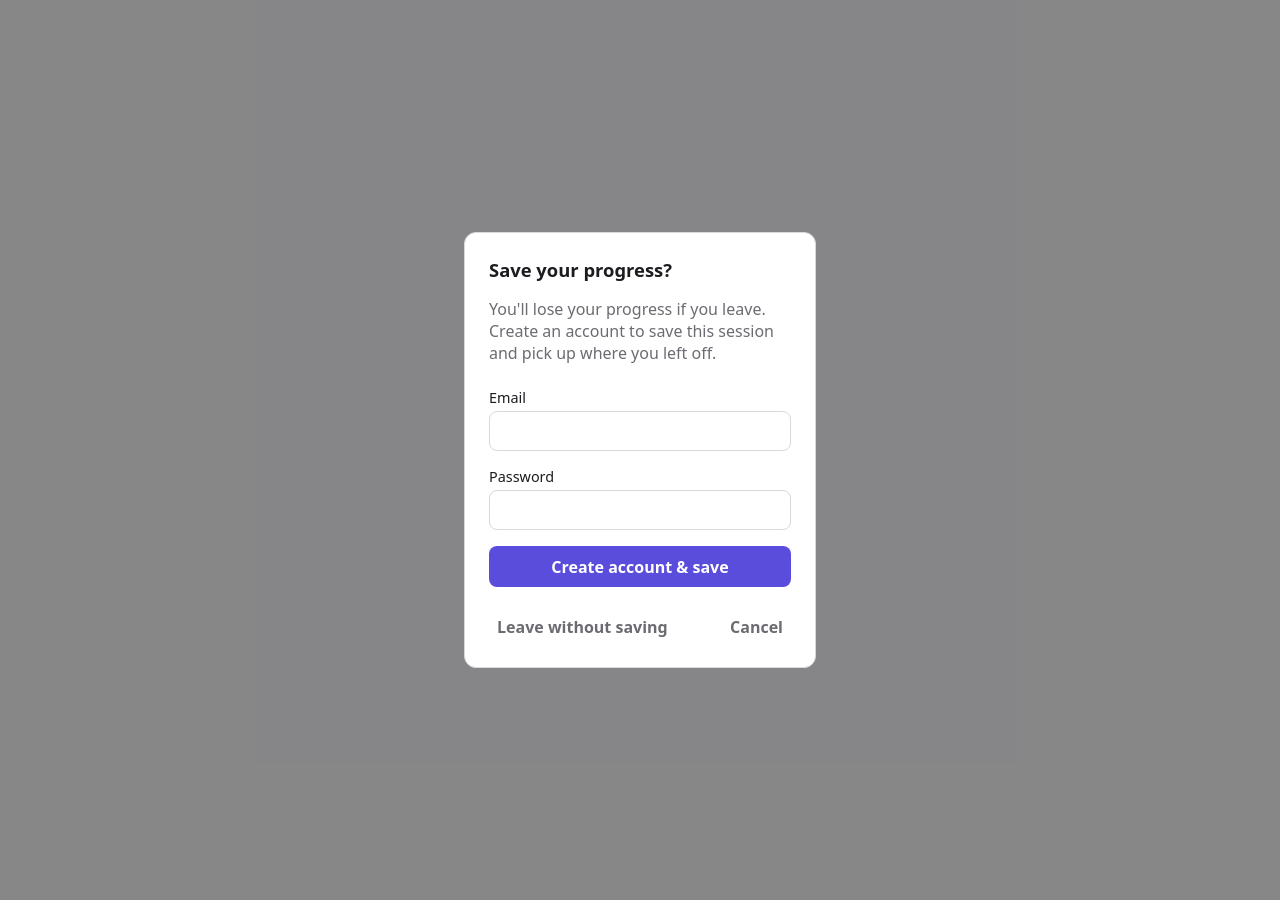
Test case: SavePrompt › requires an email and a password before submitting
Click the button "Create account & save".
click(640, 567)  # box [489,546,791,588]
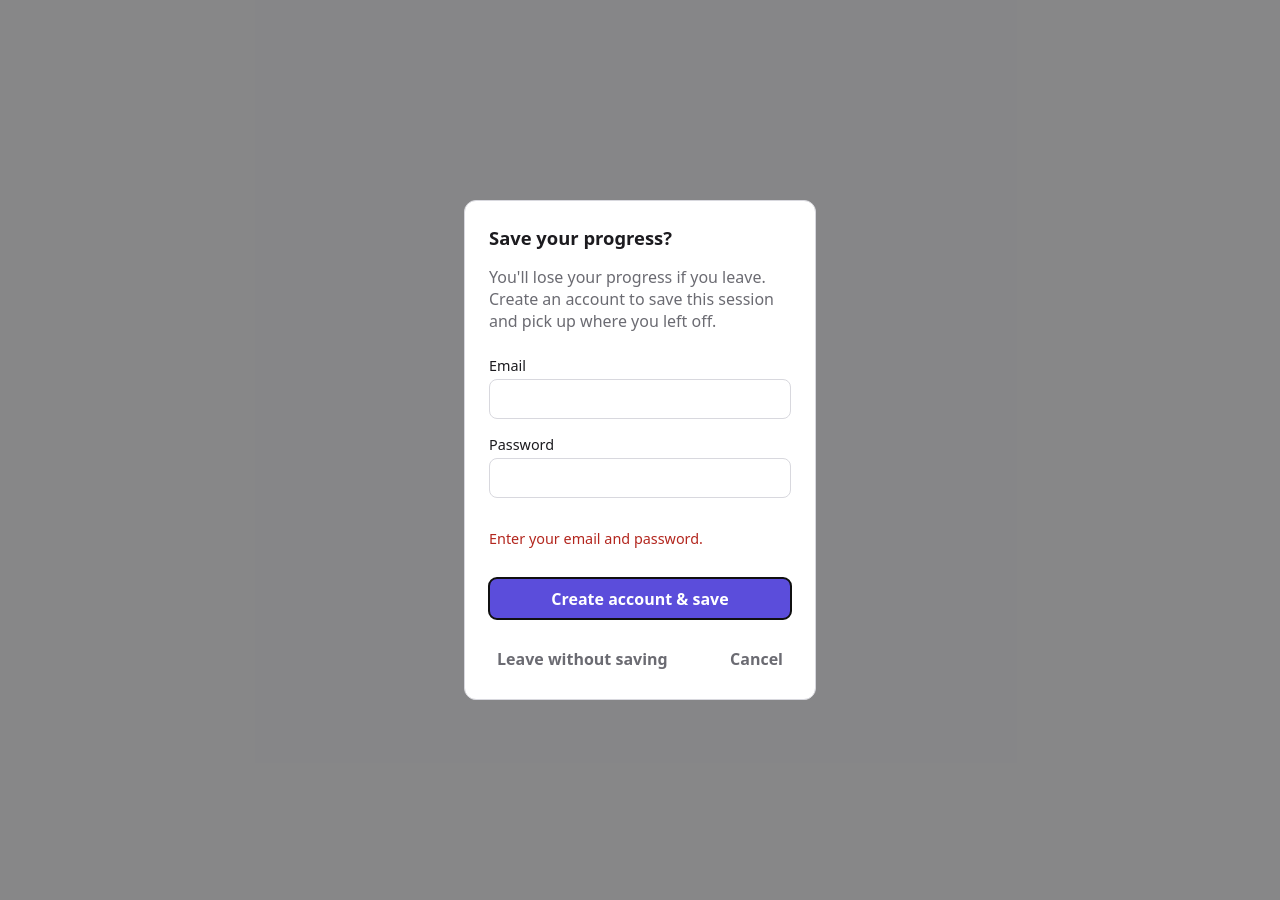
Check: the text "Enter your email and password." is shown, box [489,529,703,548]
